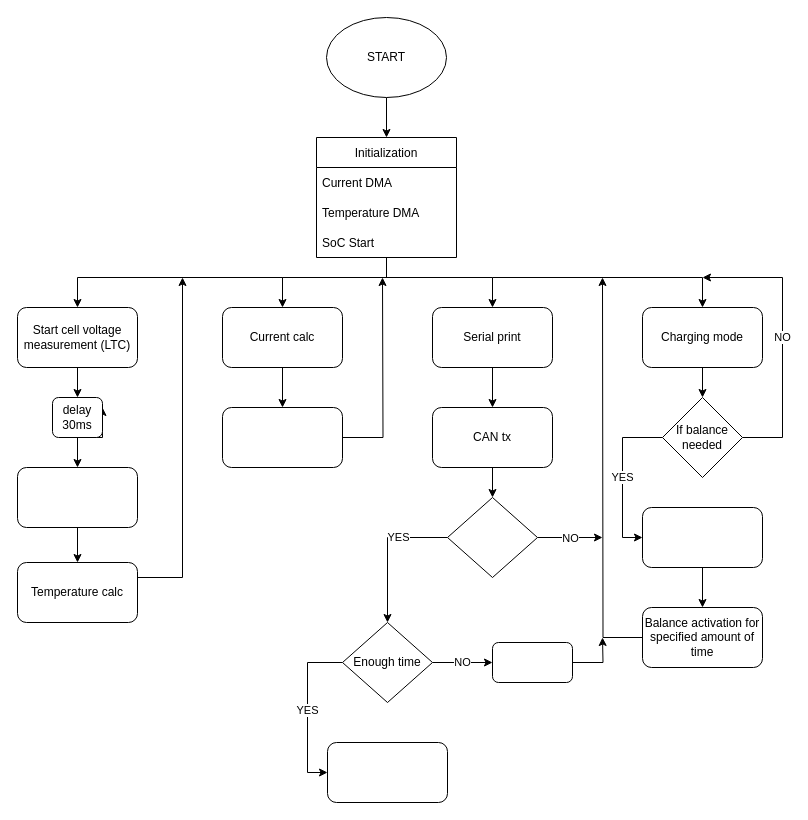
Image size: 808x820. Some labels were removed from this diagram. Each missing label, with the box of its shape:
Get voltage values: (16, 466, 138, 528)
If error occurs: (446, 496, 538, 578)
Selection of cells for balance: (642, 506, 762, 568)
Shut down: (326, 742, 448, 802)
SoC update: (222, 406, 342, 468)
Warning: (492, 642, 572, 682)
